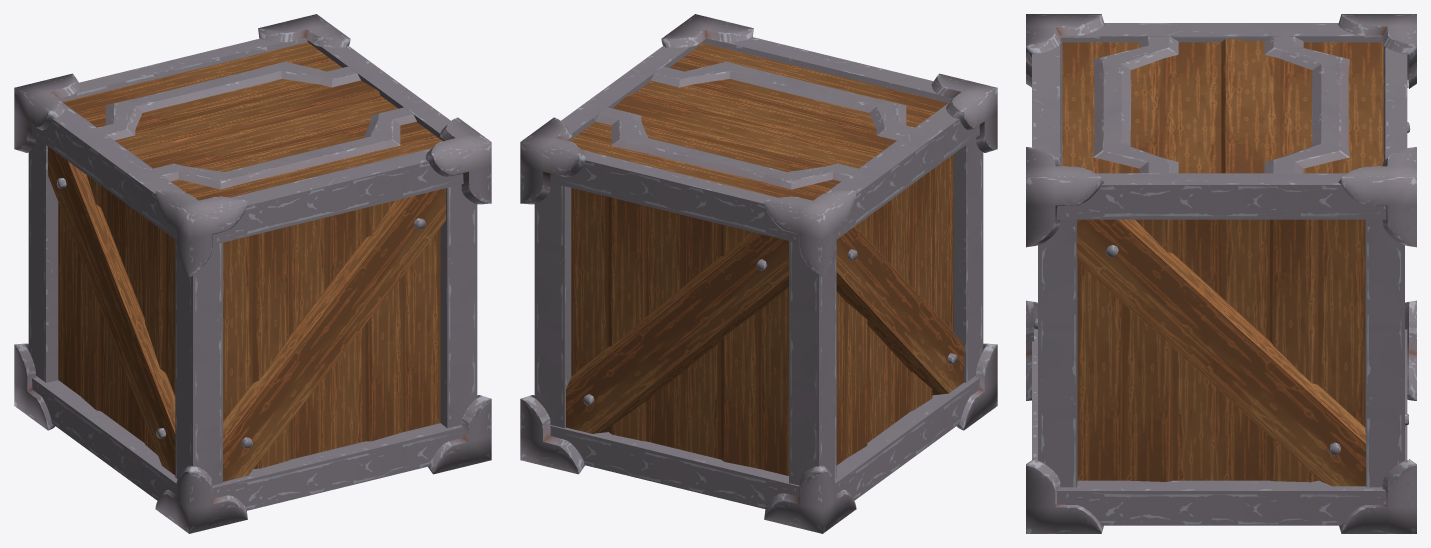
Rendered from Crate_Metal.gltf.
The picture shows the model from 3 angles, left to right: view 1: azimuth 30°, elevation 25°; view 2: azimuth 150°, elevation 25°; view 3: azimuth 270°, elevation 25°; orthographic projection. The views are drawn at different scales.
Parts seen in each view (by area): view 1: Crate_Metal; view 2: Crate_Metal; view 3: Crate_Metal.
Boxes of the visible parts, bbox=[...] form: Crate_Metal: bbox=[14, 14, 491, 533]; Crate_Metal: bbox=[520, 14, 997, 533]; Crate_Metal: bbox=[1026, 14, 1416, 533].
Bounding box in the file's own units: 0.8639 × 0.8679 × 0.8659.
2 materials, 2 textured.
